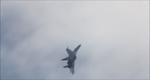maybay_muctieu: (62, 42, 80, 74)
